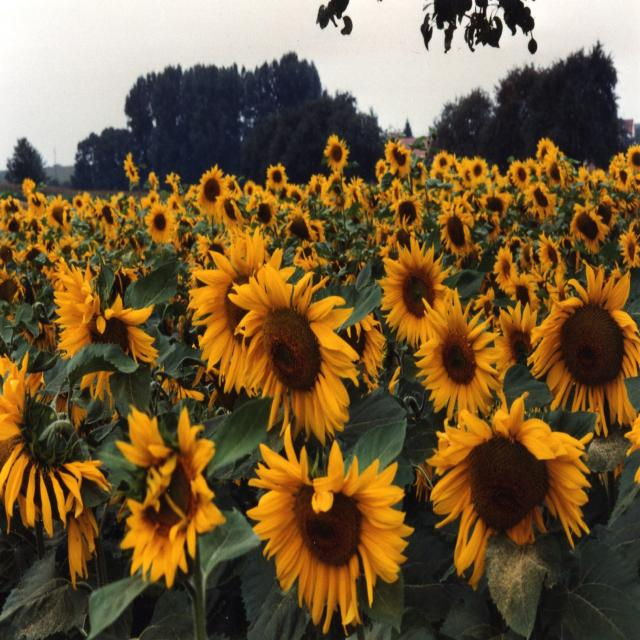sunflower: (245, 435, 429, 633), (414, 403, 595, 571), (218, 261, 362, 441), (99, 404, 234, 589), (522, 255, 640, 435), (0, 362, 94, 560), (190, 236, 288, 390), (50, 255, 159, 383), (402, 289, 498, 418), (379, 230, 454, 344), (192, 161, 230, 217), (566, 200, 604, 253), (439, 204, 472, 259), (524, 178, 560, 224), (280, 204, 318, 247), (140, 198, 176, 243), (388, 193, 423, 237), (494, 244, 520, 302), (384, 136, 416, 176), (320, 131, 350, 171), (254, 194, 282, 234), (90, 198, 121, 232), (43, 194, 68, 230), (462, 153, 489, 185), (264, 159, 289, 193), (511, 156, 533, 193), (122, 153, 141, 184), (431, 150, 455, 174), (623, 144, 640, 177), (26, 192, 47, 217)
